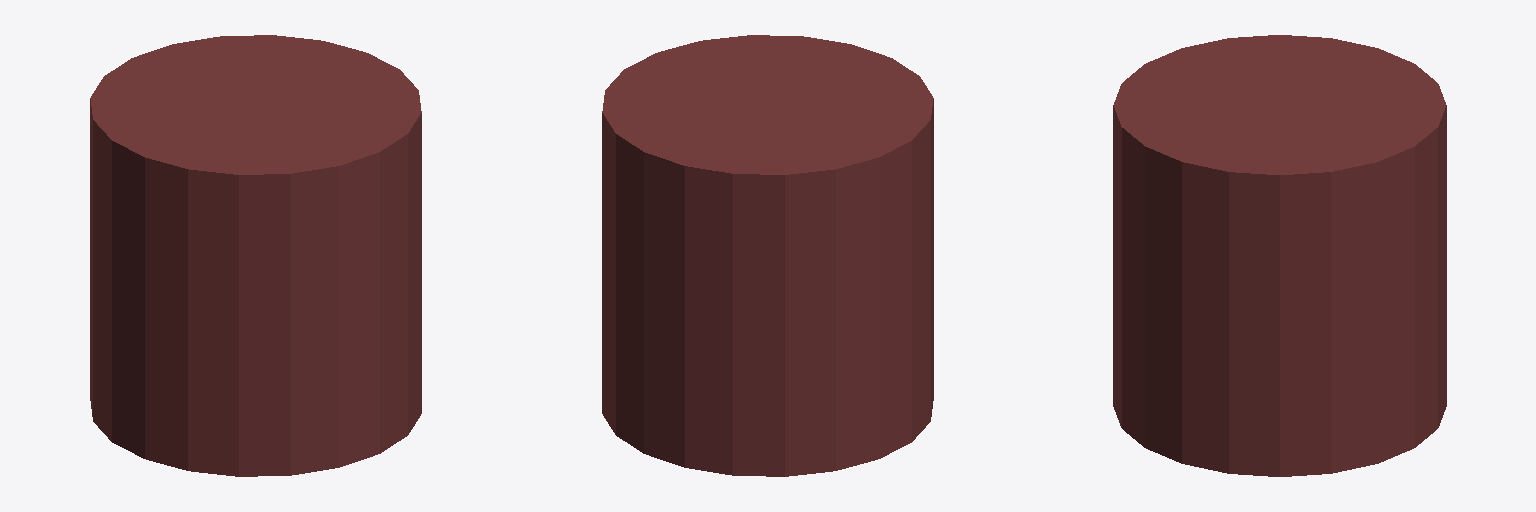
Rendered from stem.obj.
3 views of the same model, side by side, from view 1: azimuth 30°, elevation 25°; view 2: azimuth 150°, elevation 25°; view 3: azimuth 270°, elevation 25° (orthographic).
Parts seen in each view (by area): view 1: stem:pCylinder1; view 2: stem:pCylinder1; view 3: stem:pCylinder1.
Part boxes in pixels (x1,y1,x2,y2): stem:pCylinder1: (90, 35, 421, 476); stem:pCylinder1: (602, 35, 933, 476); stem:pCylinder1: (1113, 35, 1446, 476).
Size of the model in its own units: 1 by 1 by 1.